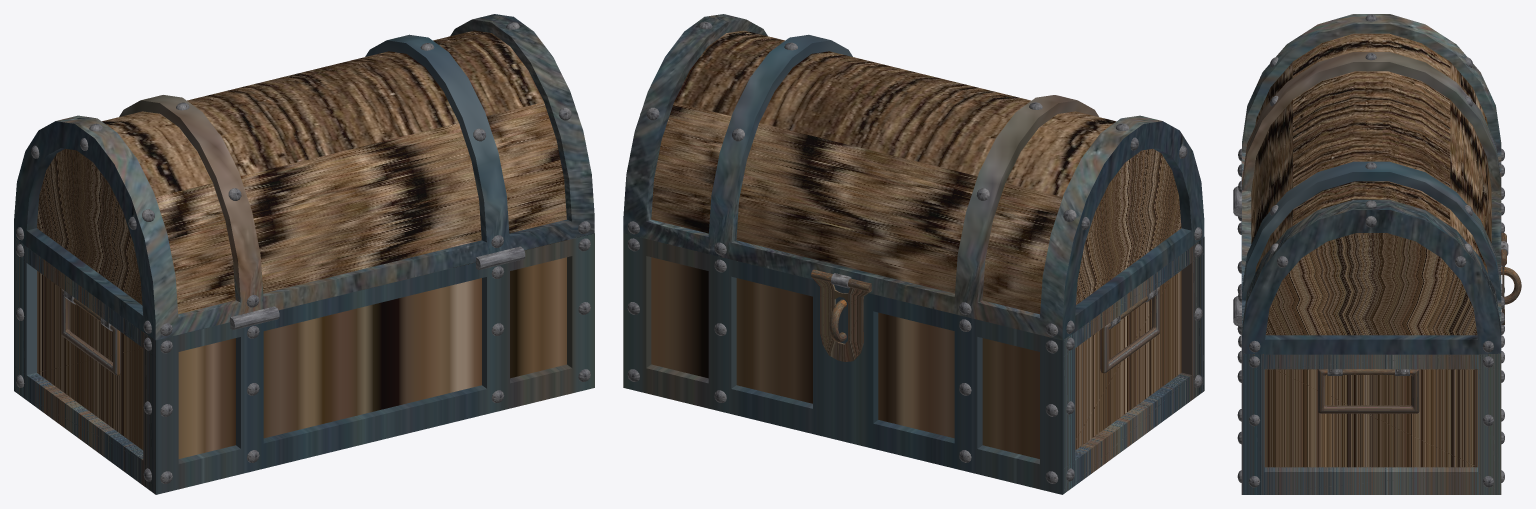
The model's file is Chest.fbx.
3 renders of one model, left to right at view 1: azimuth 30°, elevation 25°; view 2: azimuth 150°, elevation 25°; view 3: azimuth 270°, elevation 25°, orthographic. The views are drawn at different scales.
Parts seen in each view (by area): view 1: Сундук.006, Сундук.007; view 2: Сундук.006, Сундук.007; view 3: Сундук.006, Сундук.007.
Boxes of the visible parts, left/top/right/bottom form: Сундук.006: left=14, top=14, right=594, bottom=340; Сундук.007: left=14, top=233, right=594, bottom=494; Сундук.006: left=623, top=14, right=1204, bottom=361; Сундук.007: left=623, top=233, right=1204, bottom=494; Сундук.006: left=1233, top=14, right=1508, bottom=354; Сундук.007: left=1237, top=161, right=1521, bottom=494.
Bounding box in the file's own units: 100 × 67.38 × 60.92.
